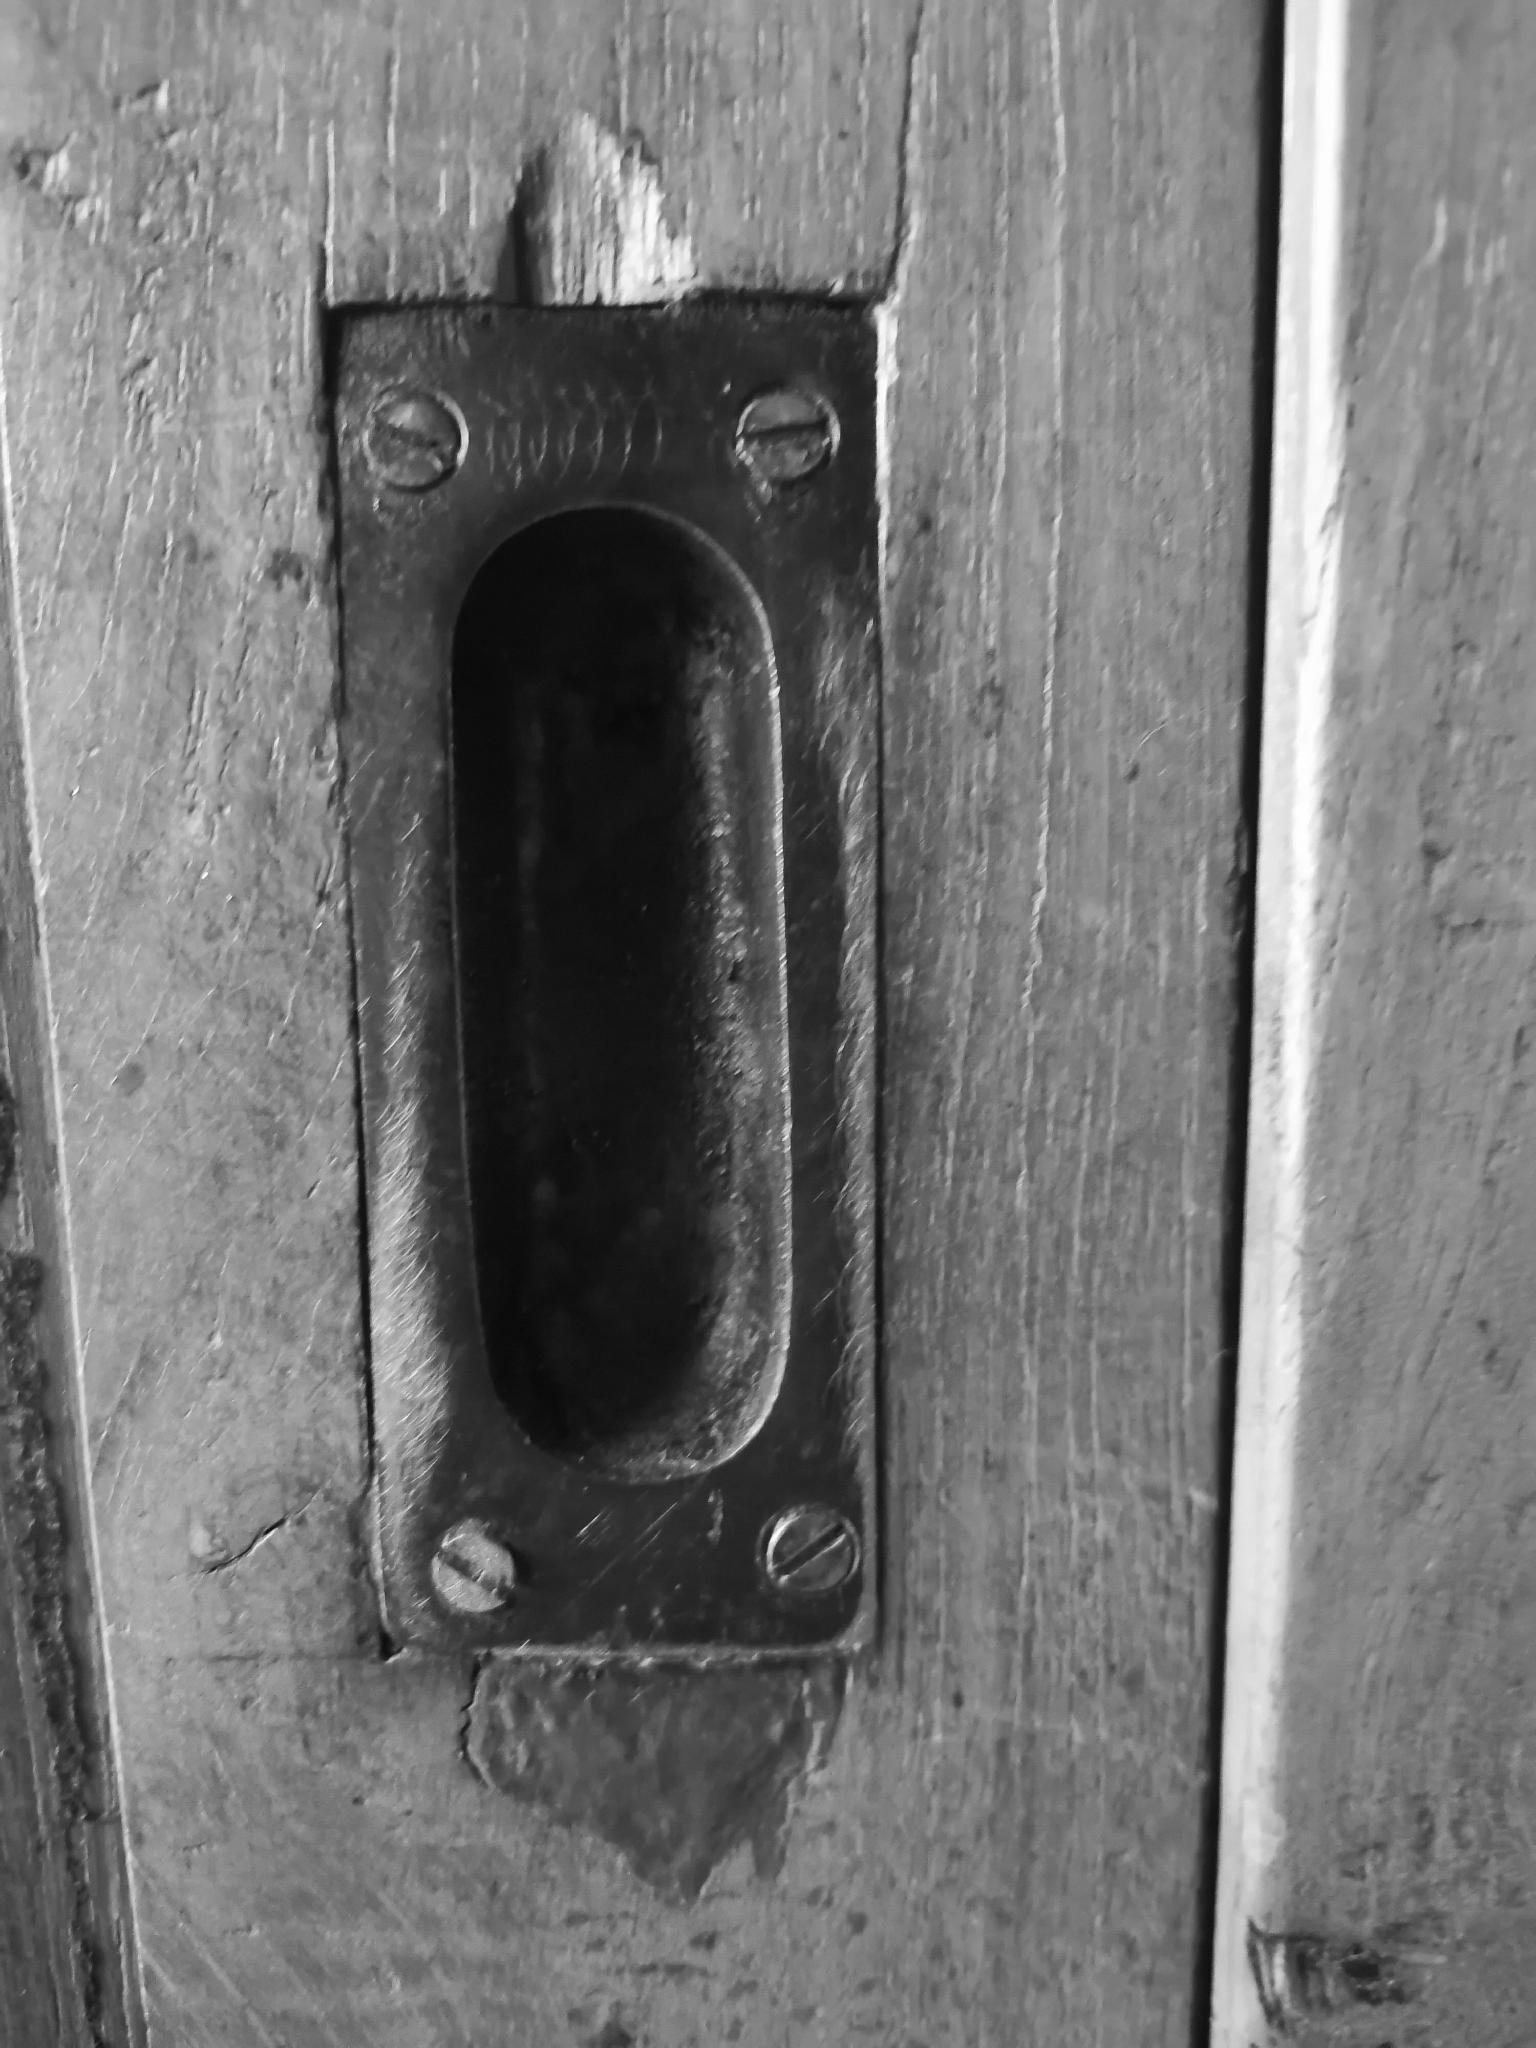screw: (340, 382, 474, 510), (724, 381, 848, 497), (424, 1522, 526, 1628), (759, 1505, 859, 1605)
